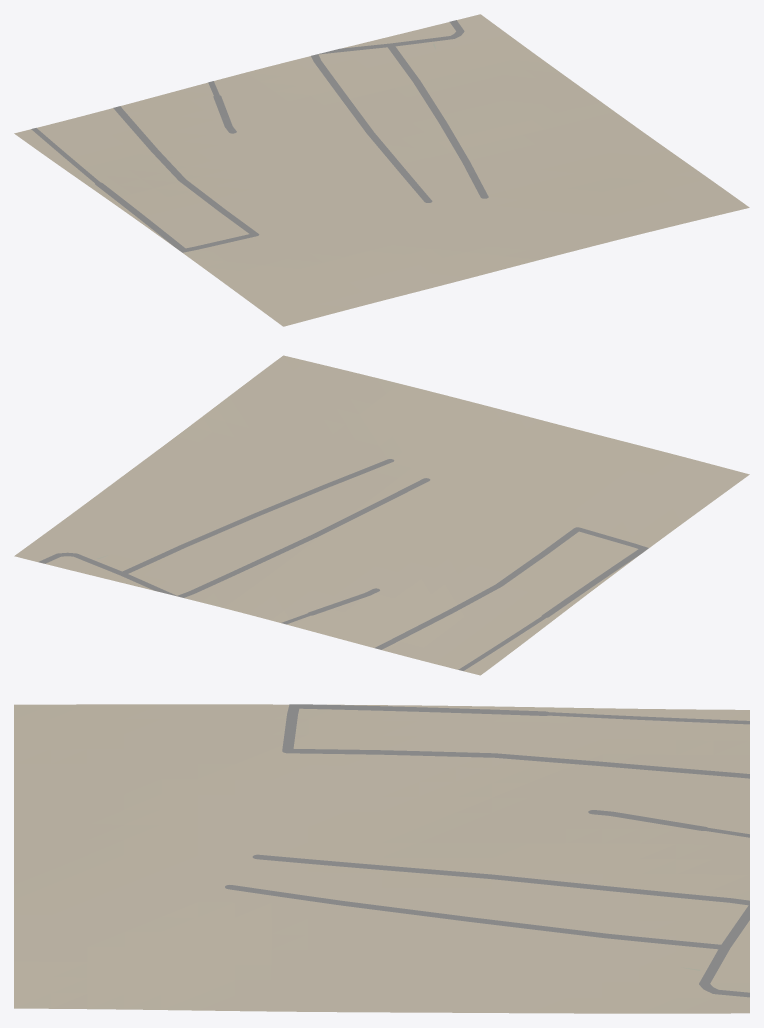
Rendered from bolak_-6_10.glb.
3 renders of one model, top to bottom at view 1: azimuth 30°, elevation 25°; view 2: azimuth 150°, elevation 25°; view 3: azimuth 270°, elevation 25°, orthographic. The views are drawn at different scales.
Visible parts, largest first — view 1: Yer_Tuproq-col, Yol_Mahalla-col; view 2: Yer_Tuproq-col, Yol_Mahalla-col; view 3: Yer_Tuproq-col, Yol_Mahalla-col.
Part boxes in pixels (box(x1,y1,x2,y2)): Yer_Tuproq-col: box(14, 14, 749, 326); Yol_Mahalla-col: box(31, 20, 488, 252); Yer_Tuproq-col: box(14, 355, 749, 675); Yol_Mahalla-col: box(38, 459, 648, 670); Yer_Tuproq-col: box(14, 704, 749, 1013); Yol_Mahalla-col: box(225, 704, 749, 997).
Size of what is drawn, in the model's own units: 400 by 7.67 by 400.
